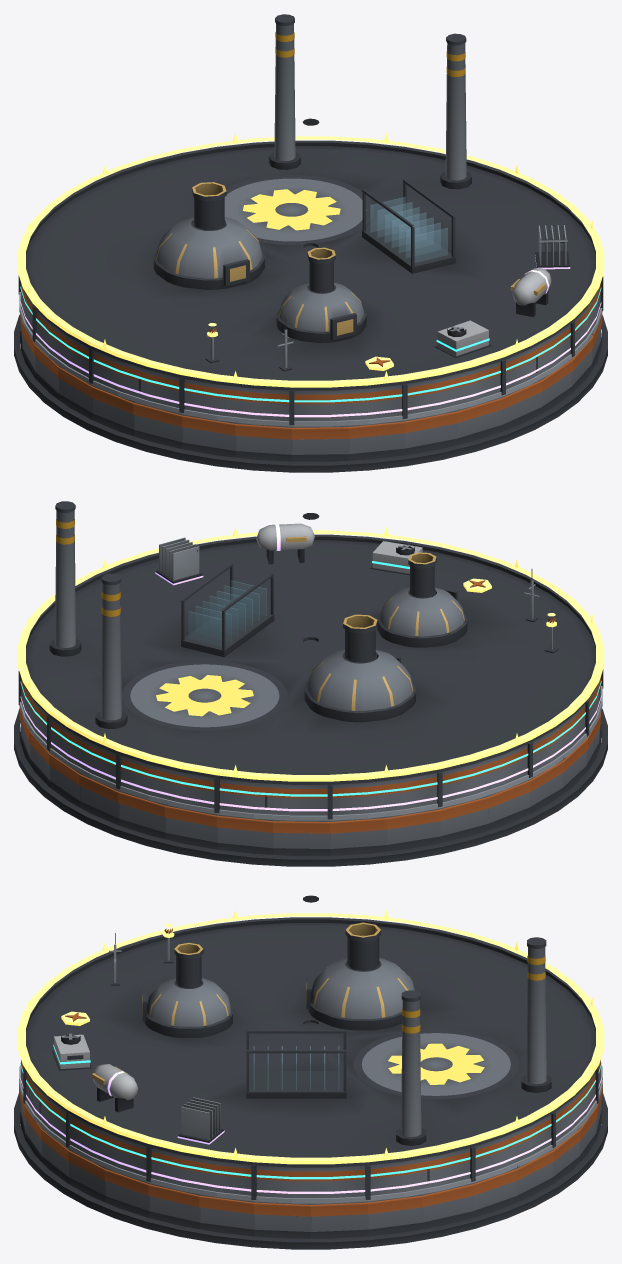
File: glassworks_l_far.glb
The picture shows the model from 3 angles, top to bottom: view 1: azimuth 30°, elevation 25°; view 2: azimuth 150°, elevation 25°; view 3: azimuth 270°, elevation 25°; orthographic projection.
Visible parts, largest first — view 1: Roof, Base, L5, L4, L2, L3; view 2: Roof, Base, L5, L4, L2, L3; view 3: Roof, Base, L5, L4, L2, L3.
Part boxes in pixels (x1,y1,x2,y2): Roof: (18, 14, 603, 425); Base: (14, 313, 607, 472); L5: (17, 133, 604, 387); L4: (20, 225, 601, 417); L2: (19, 292, 602, 426); L3: (20, 242, 601, 402); Roof: (18, 501, 603, 819); Base: (14, 707, 607, 866); L5: (17, 527, 604, 781); L4: (20, 523, 601, 811); L2: (19, 569, 602, 820); L3: (20, 541, 601, 796); Roof: (21, 895, 600, 1199); Base: (14, 1078, 607, 1249); L5: (17, 910, 604, 1164); L4: (20, 1064, 601, 1193); L2: (19, 933, 602, 1203); L3: (20, 1019, 601, 1179).
Bounding box in the file's own units: 18.96 × 7.92 × 18.96.
